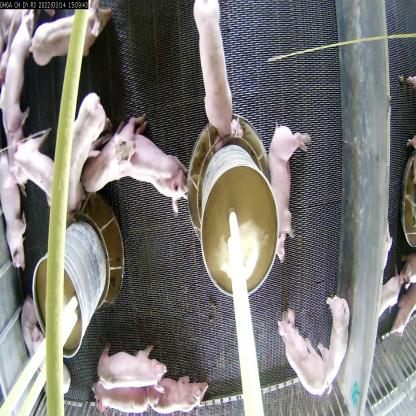Pig: (260, 115, 311, 265), (118, 122, 194, 220), (188, 0, 239, 141), (52, 85, 104, 219), (70, 112, 142, 196), (0, 19, 43, 138), (8, 134, 71, 206), (32, 10, 99, 70), (0, 150, 32, 272), (85, 371, 161, 415), (98, 346, 166, 390), (147, 373, 209, 415)
